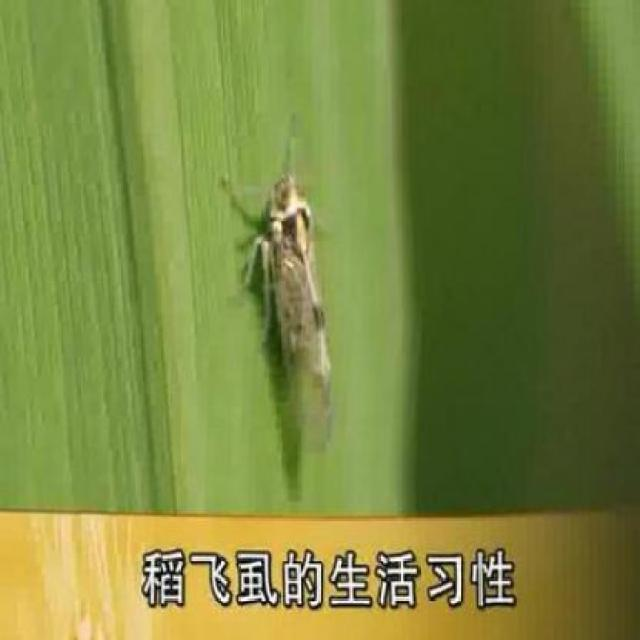brown-planthopper: (260, 166, 332, 449)
